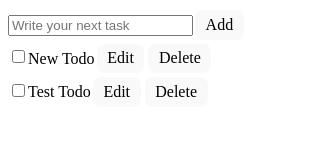
Todo Component › deletes todo
Click the button named "delete \"test todo\"".
click(176, 92)  # box [145,77,208,107]
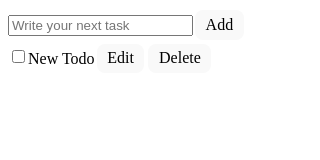
Expected: the text "Test Todo" is gone
